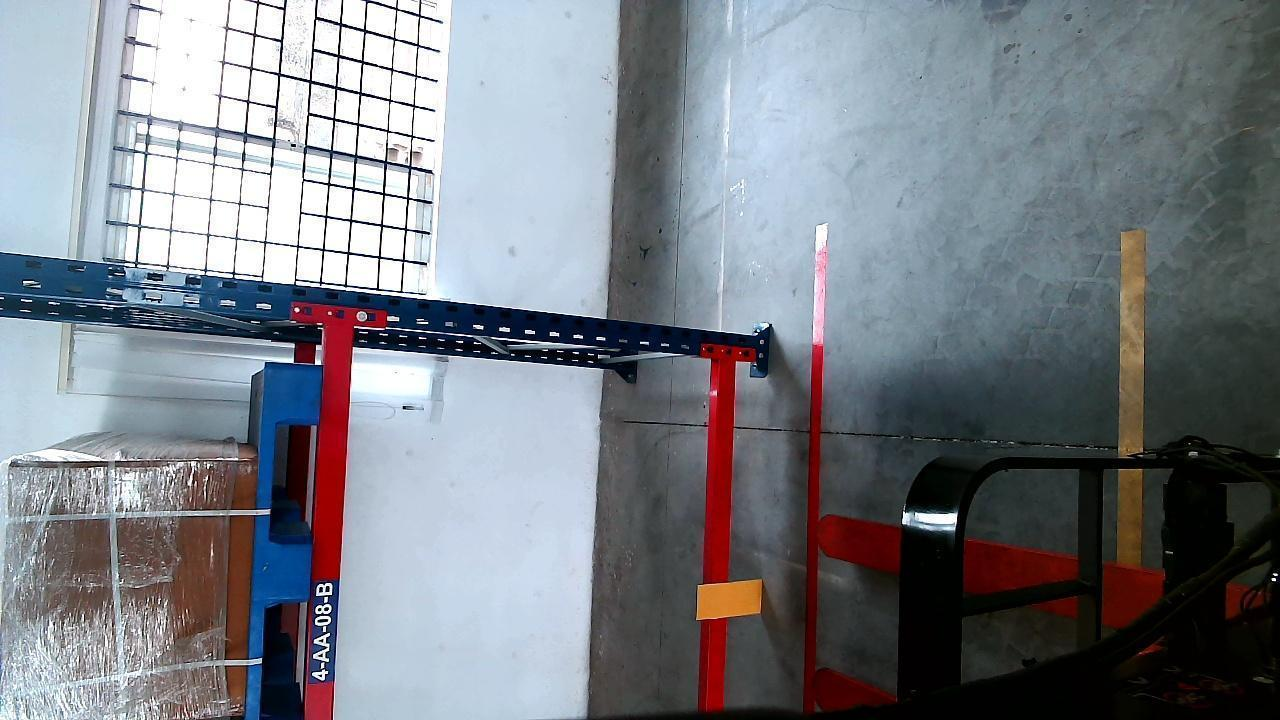red_line: (799, 223, 832, 720)
yellow_line: (1117, 235, 1147, 567)
